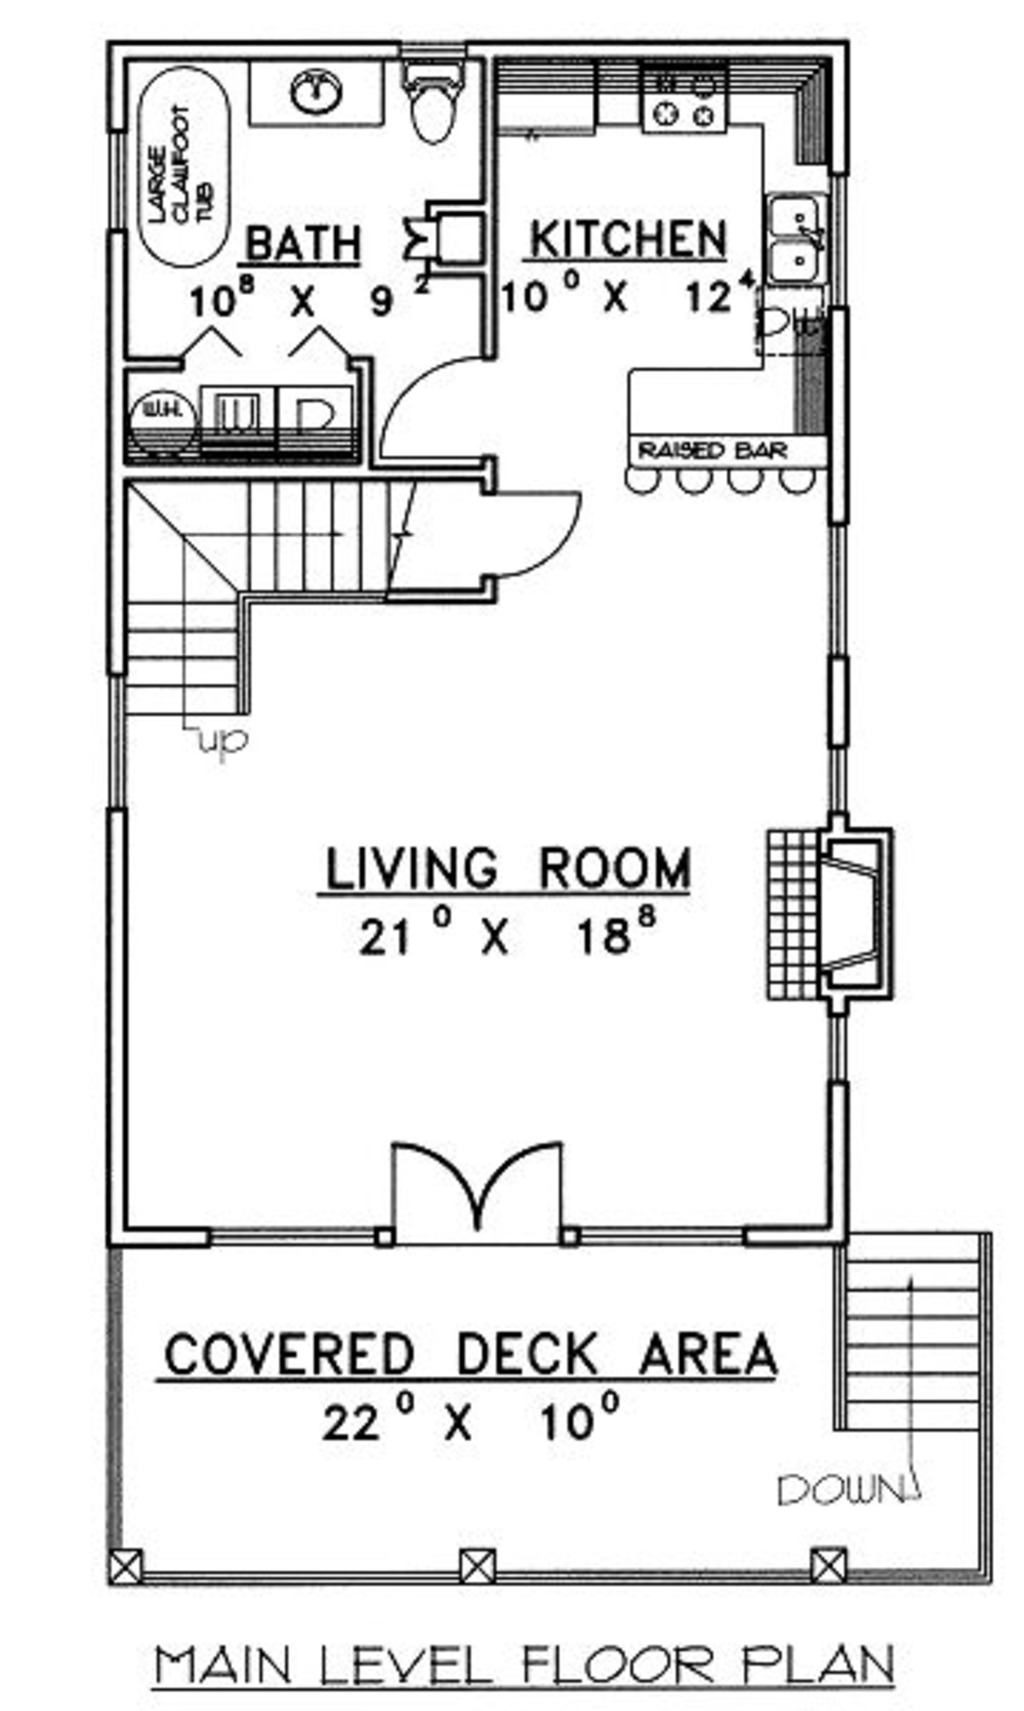door: (375, 1118, 586, 1255), (460, 448, 605, 593), (367, 349, 521, 459)
kitchen_bar: (610, 349, 851, 503)
large_sink: (394, 26, 472, 174)
small_sink: (254, 48, 397, 128)
stairs: (110, 466, 483, 756), (824, 1206, 1022, 1511)
tub: (115, 52, 247, 275)
twin_sink: (745, 165, 859, 290)
